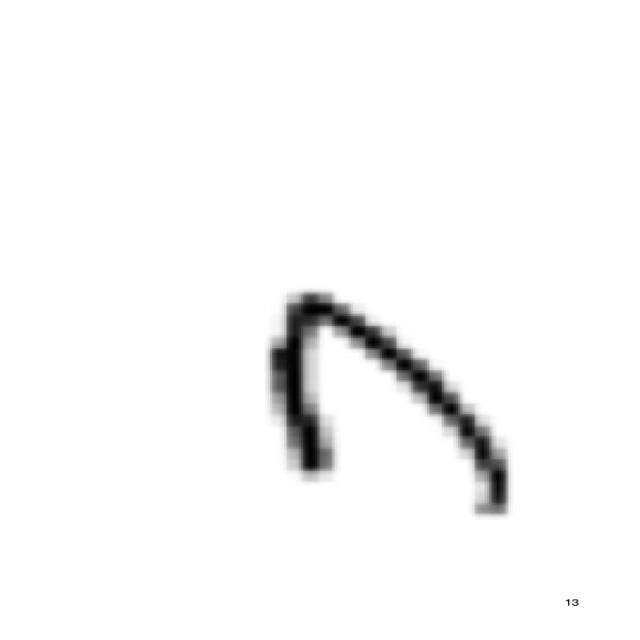8 -eight-: (234, 270, 540, 542)
